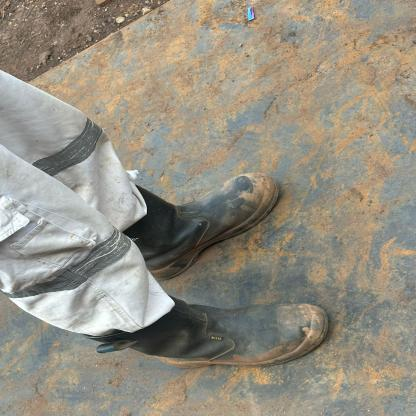bota: (109, 163, 289, 278), (79, 294, 335, 368)
